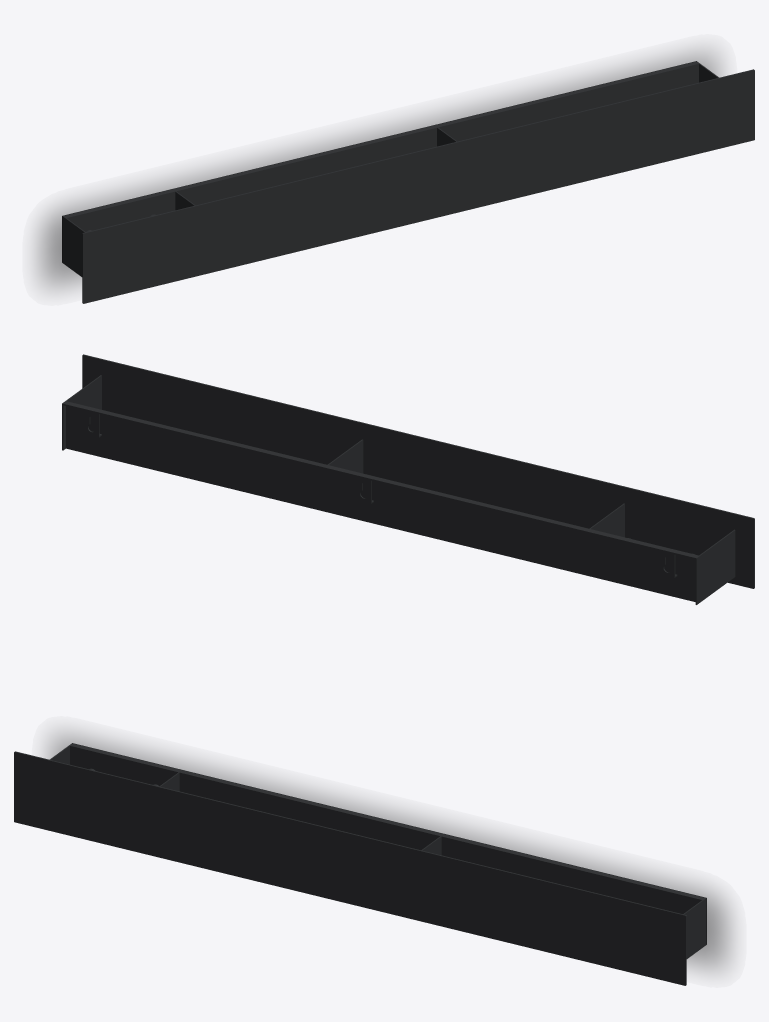
File: skyline-patron.7729d01405.ar.glb
The picture shows the model from 3 angles, top to bottom: view 1: azimuth 30°, elevation 25°; view 2: azimuth 150°, elevation 25°; view 3: azimuth 330°, elevation 25°; orthographic projection.
Visible parts, largest first — view 1: NAUO1, object 2; view 2: NAUO1; view 3: NAUO1, object 2.
Boxes of the visible parts, <box> form: NAUO1: <box>62,61,754,303</box>; object 2: <box>36,51,722,288</box>; NAUO1: <box>62,354,754,604</box>; NAUO1: <box>14,743,706,985</box>; object 2: <box>46,733,732,970</box>.
Size of the model in its own units: 0.98 by 0.17 by 0.092.
Materials: 2 (1 with a texture image).
